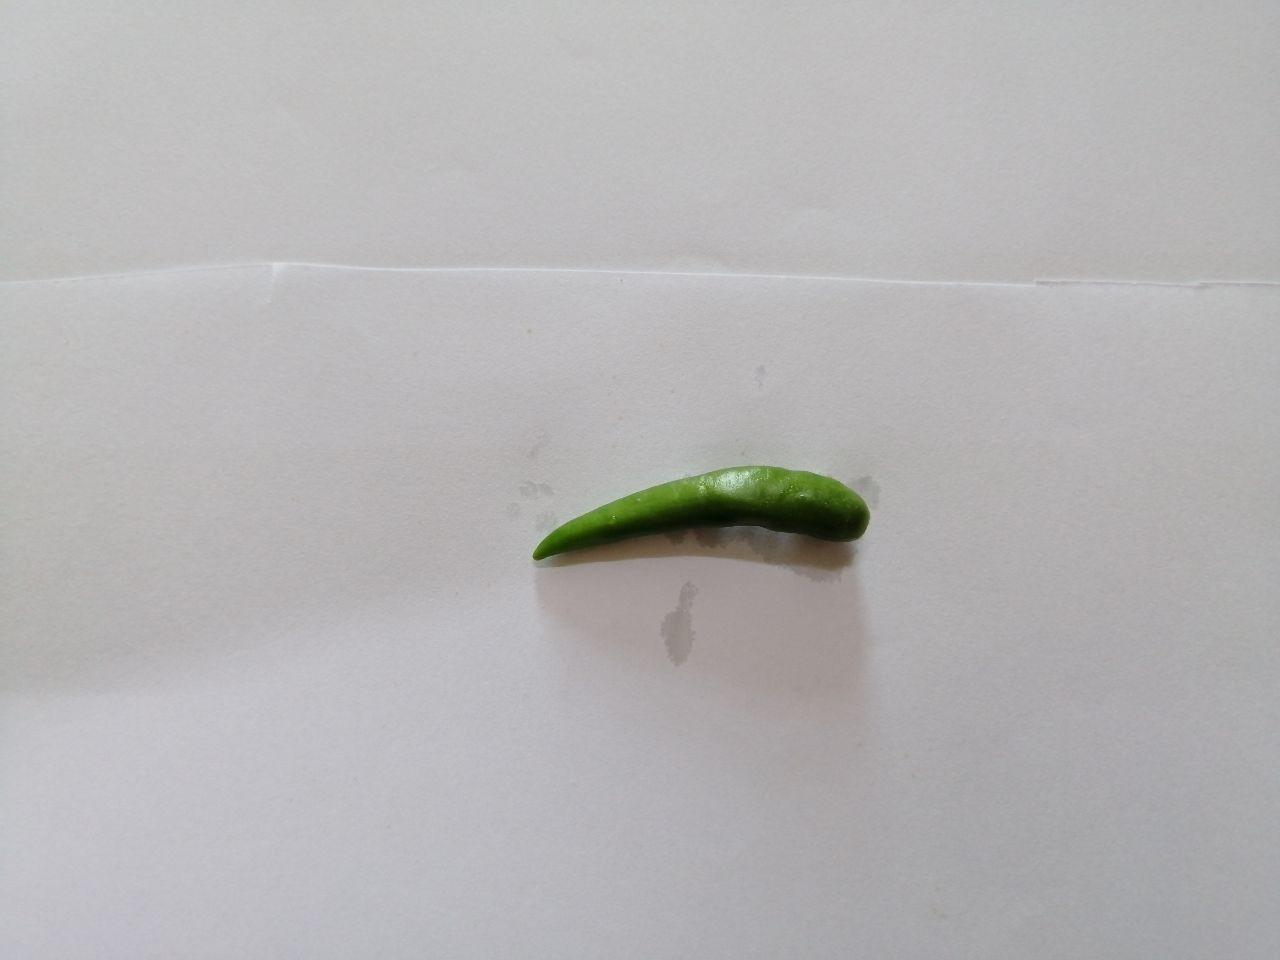lada hijau: (502, 443, 902, 617)
